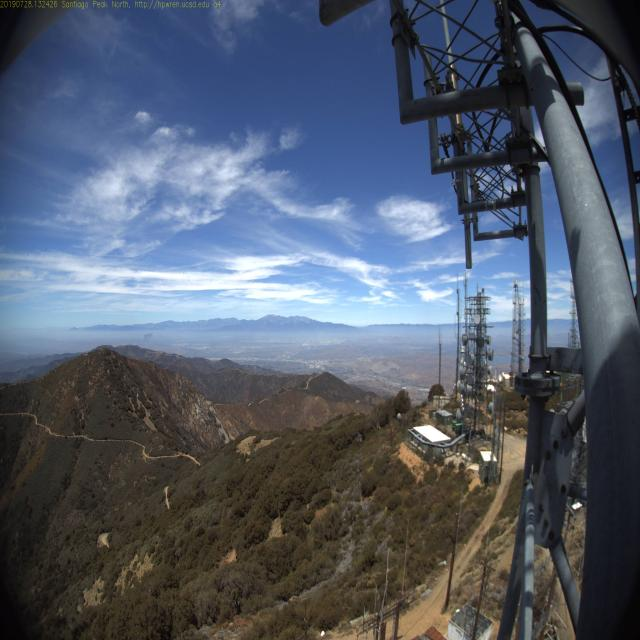smoke: (136, 326, 154, 346)
